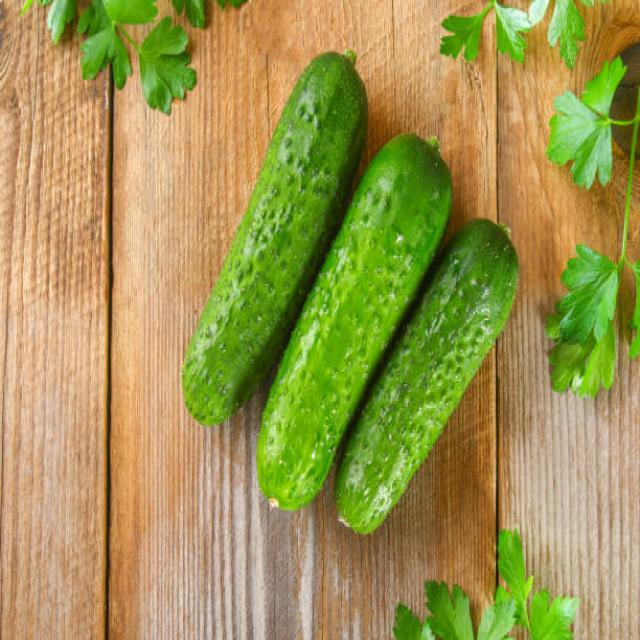cucumber: (183, 49, 520, 532)
